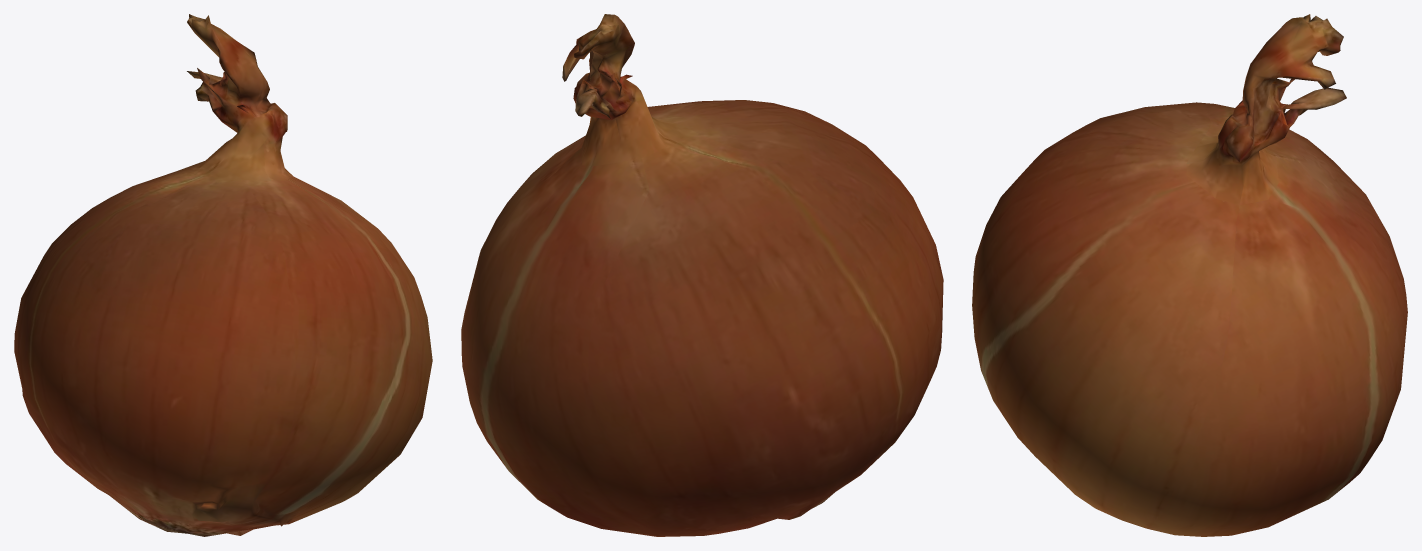
File: yellow_onion.glb
3 views of the same model, side by side, from view 1: azimuth 30°, elevation 25°; view 2: azimuth 150°, elevation 25°; view 3: azimuth 270°, elevation 25° (orthographic). The views are drawn at different scales.
Visible parts, largest first — view 1: yellow_onion; view 2: yellow_onion; view 3: yellow_onion.
Boxes of the visible parts, bbox=[...] form: yellow_onion: bbox=[14, 14, 432, 536]; yellow_onion: bbox=[461, 14, 943, 536]; yellow_onion: bbox=[972, 14, 1407, 536].
Bounding box in the file's own units: 0.0724 × 0.0864 × 0.0685.
1 material, 1 textured.
